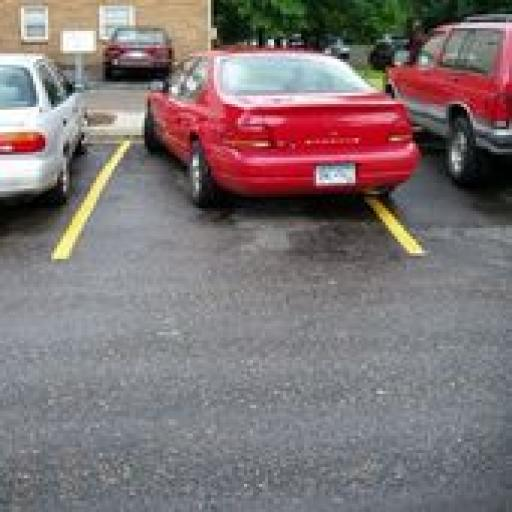Illegal-parking: (117, 12, 440, 264)
